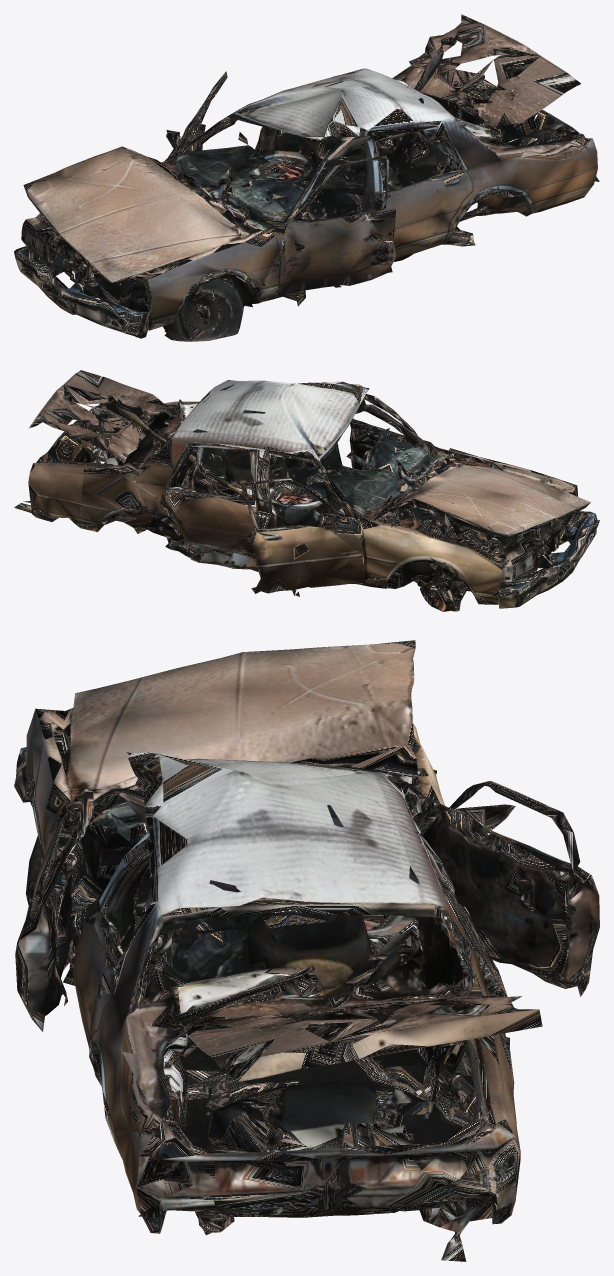
Rendered from wreck-a.glb.
3 views of the same model, one above another, from view 1: azimuth 30°, elevation 25°; view 2: azimuth 150°, elevation 25°; view 3: azimuth 270°, elevation 25° (orthographic). The views are drawn at different scales.
Parts seen in each view (by area): view 1: scan; view 2: scan; view 3: scan.
Part boxes in pixels (x1,y1,x2,y2): scan: (14,14,599,341); scan: (14,370,599,611); scan: (14,640,599,1261).
Bounding box in the file's own units: 28.04 × 8.33 × 14.3.
1 material, 1 textured.
